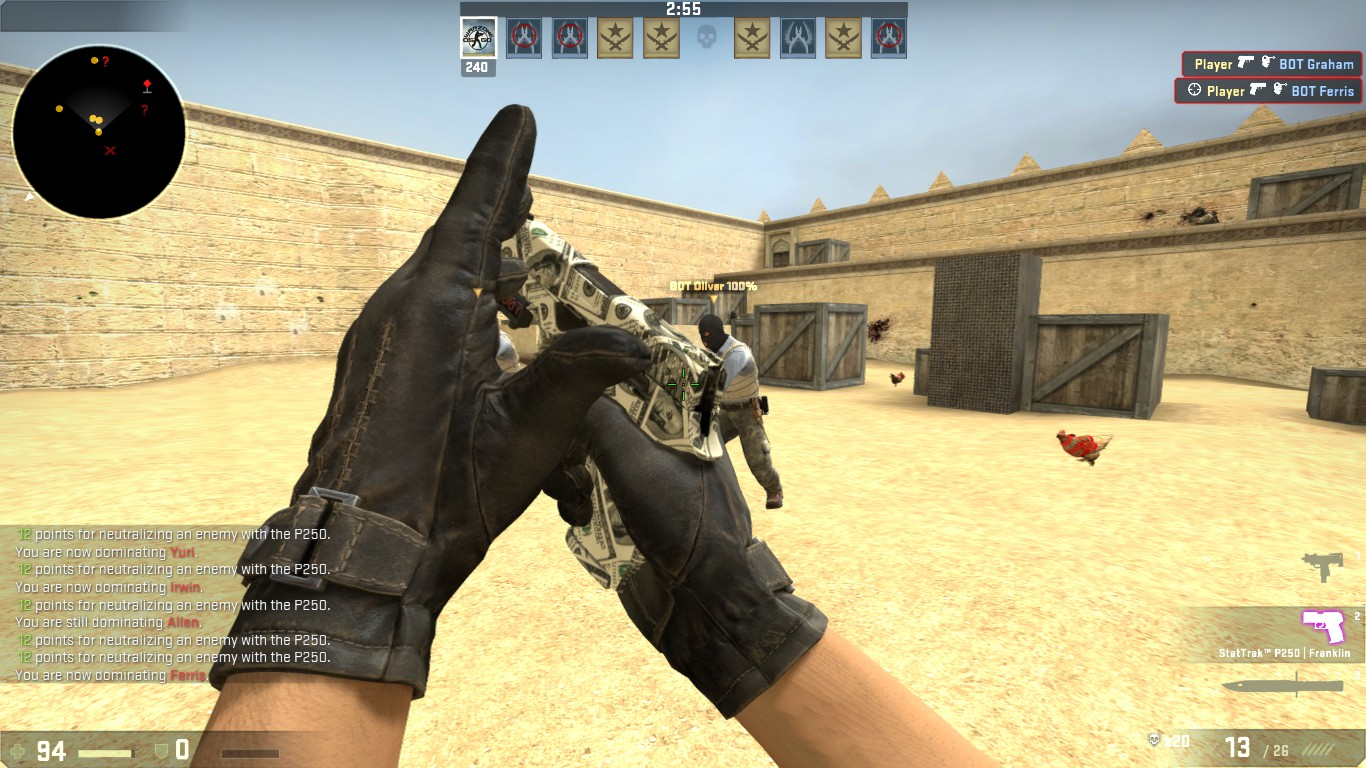t: (686, 308, 785, 504)
th: (695, 312, 740, 356)
